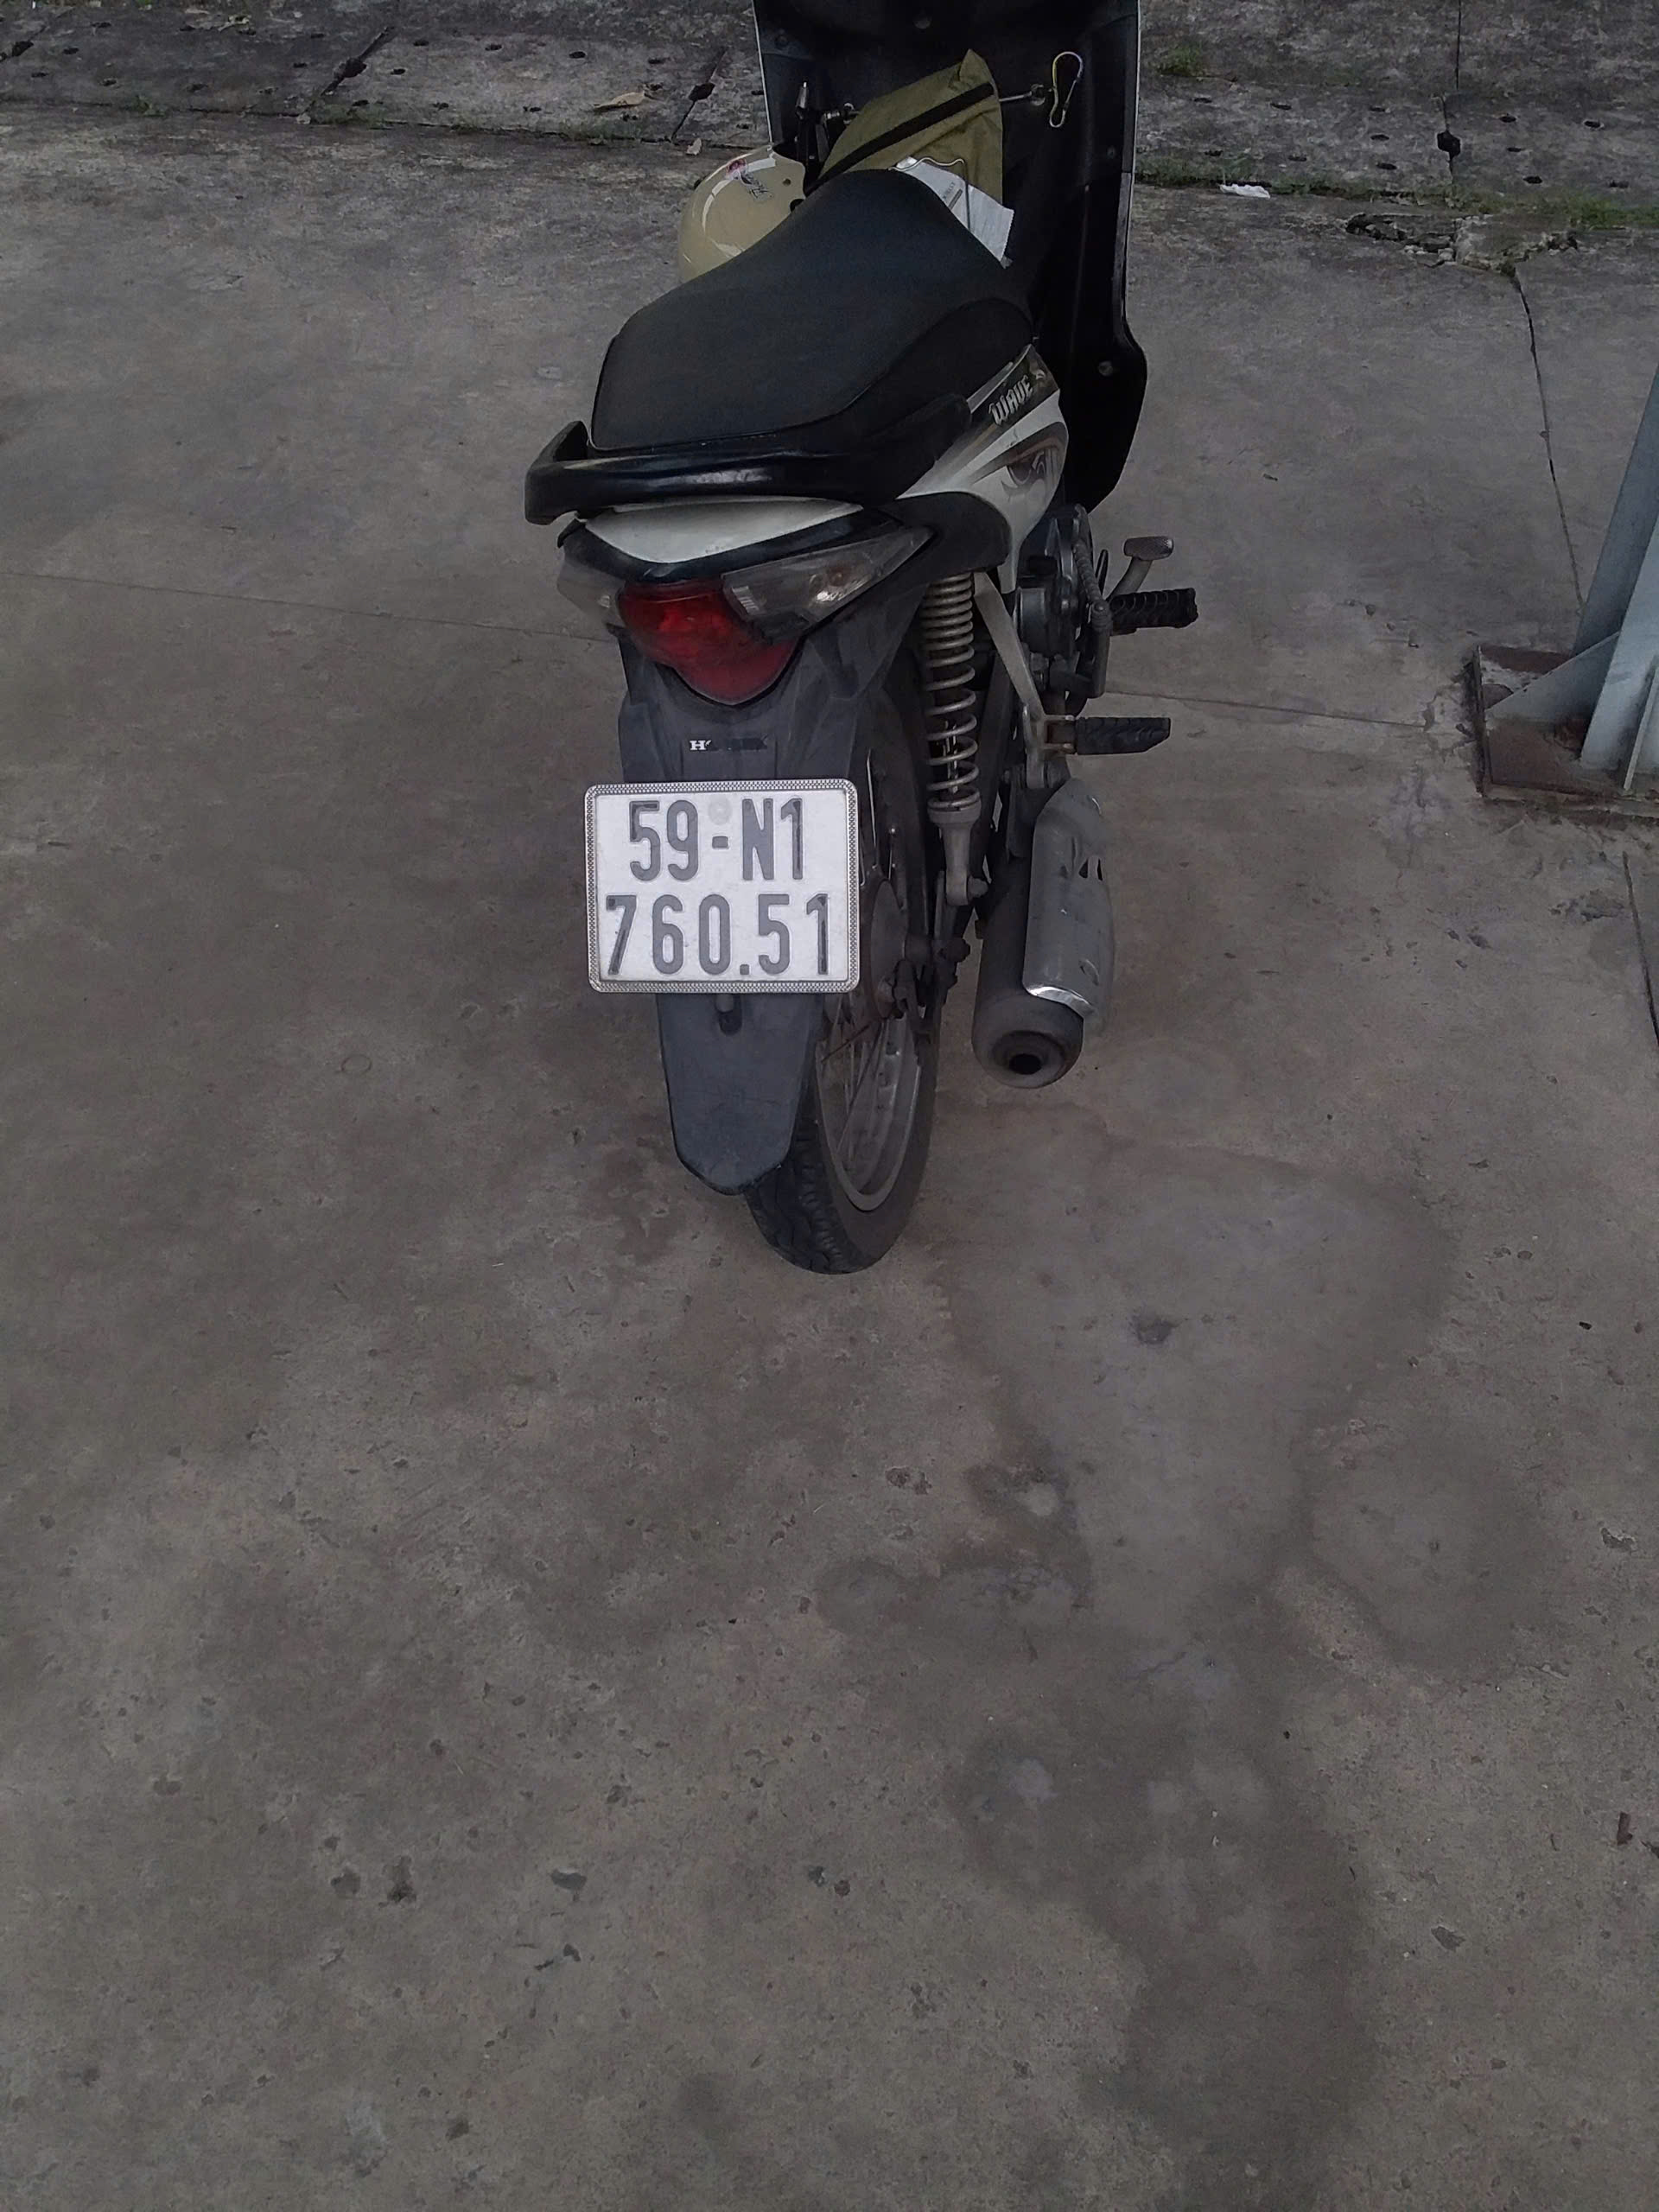bien_so: (585, 783, 861, 991)
